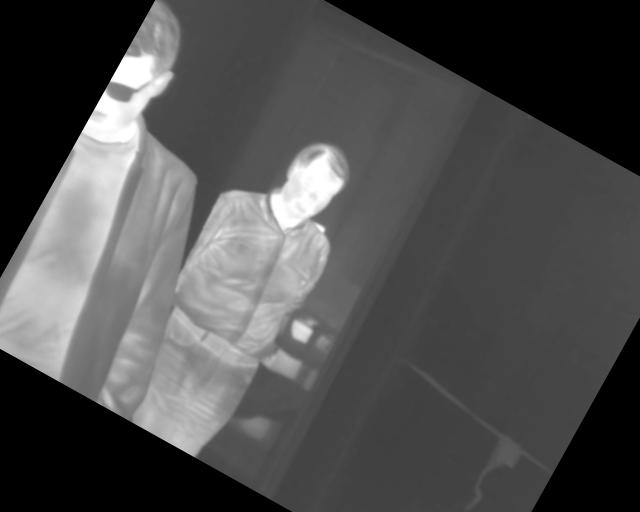face: (266, 129, 360, 233)
